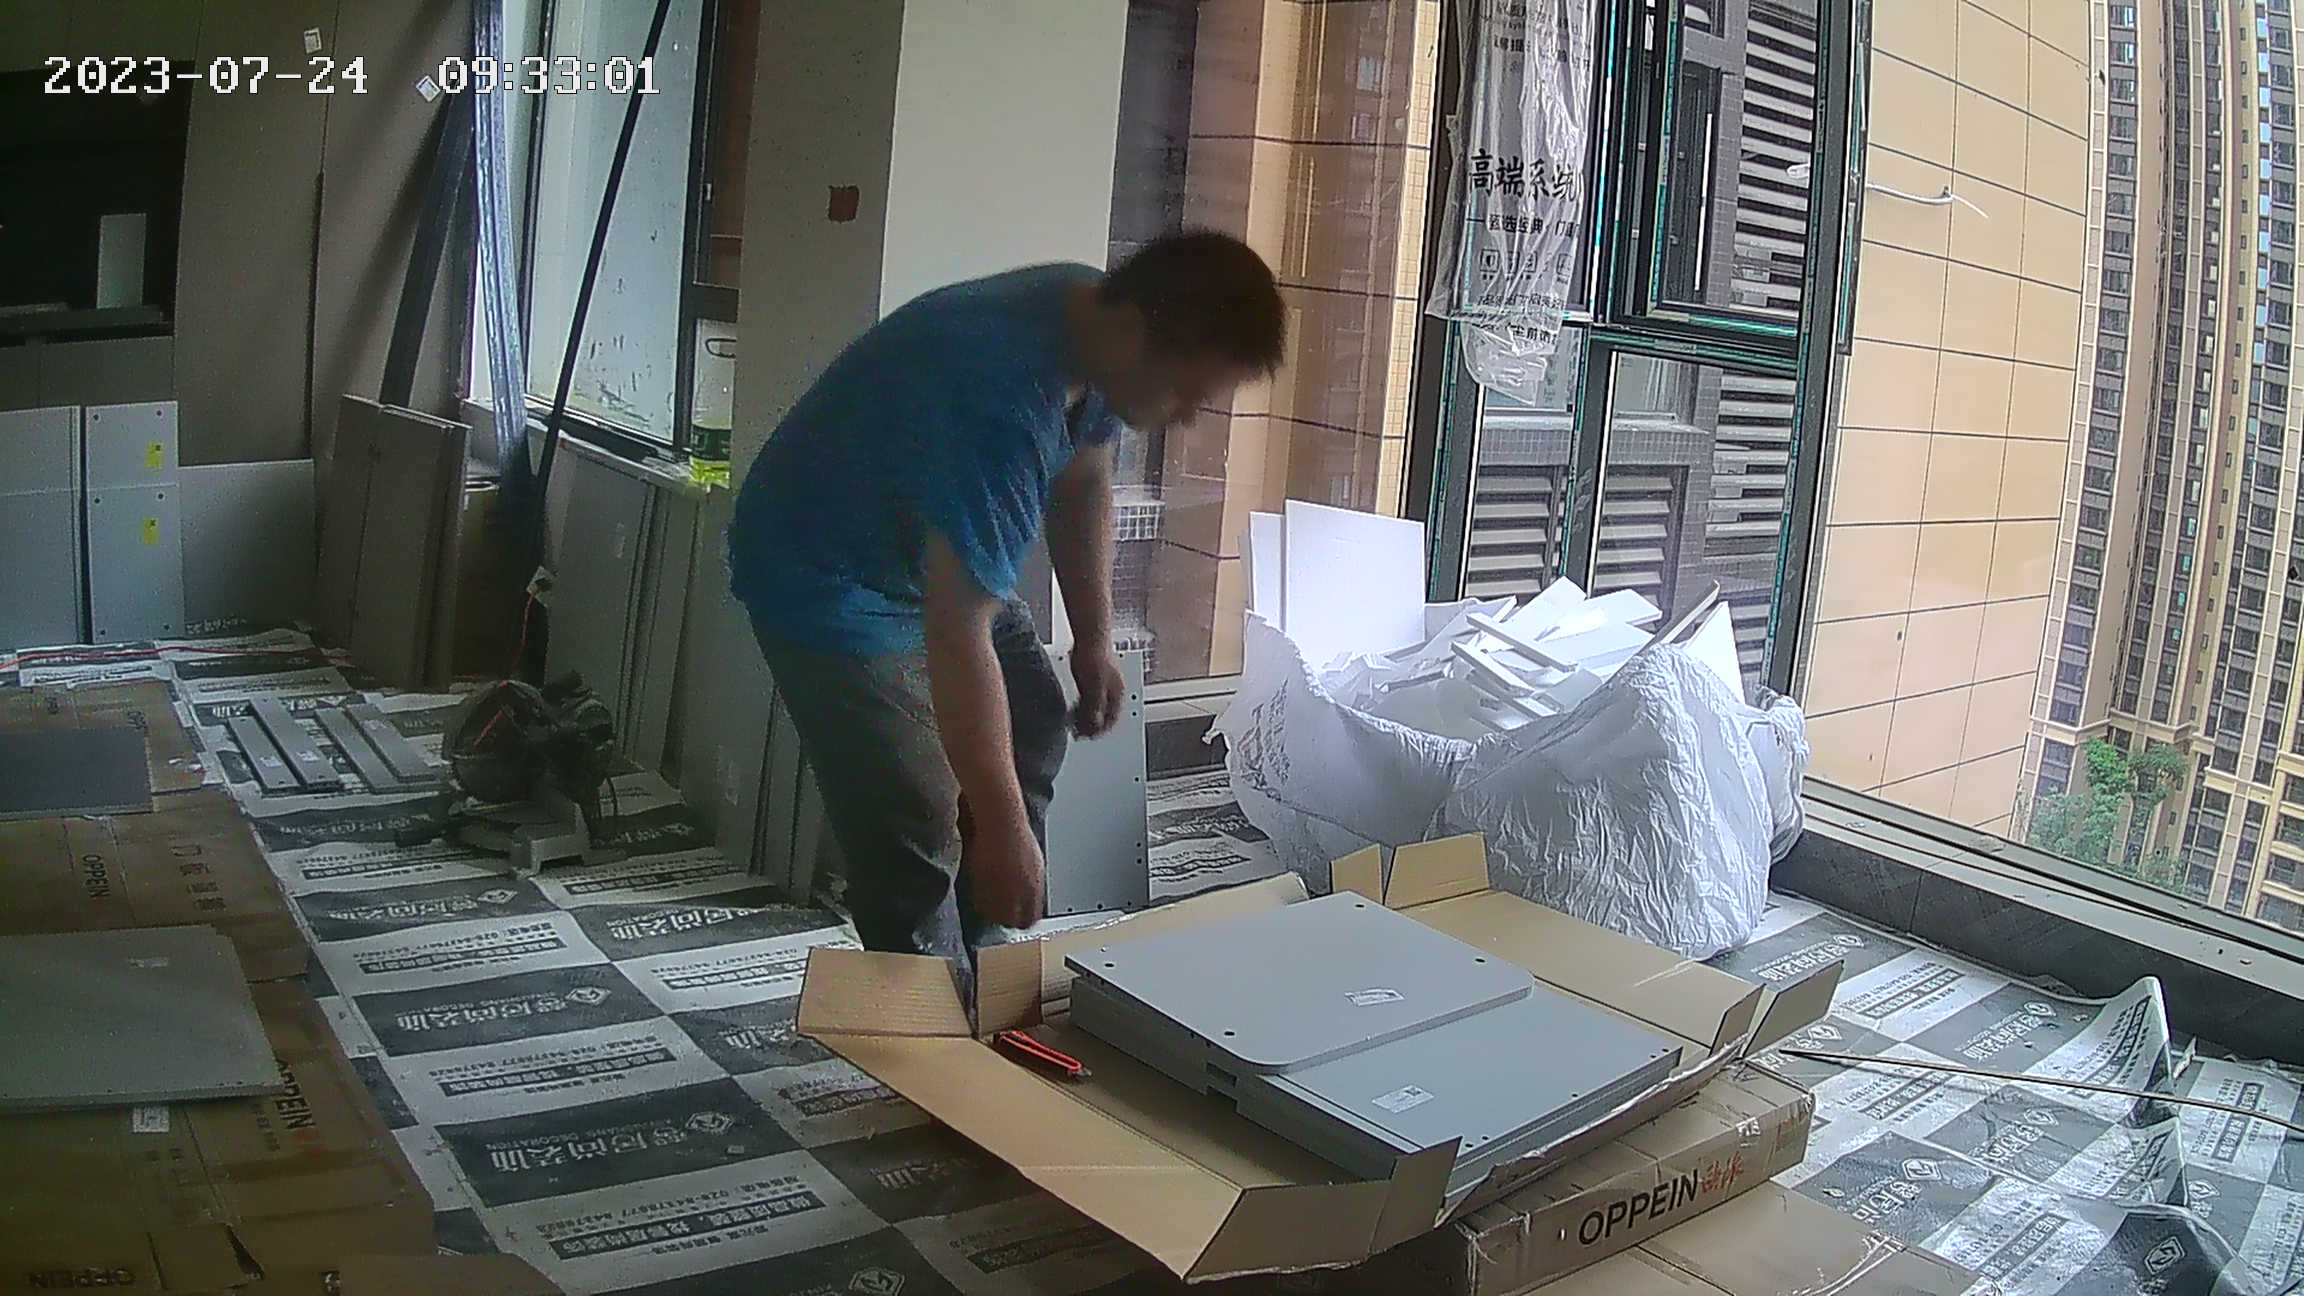people: (723, 229, 1278, 937)
window: (1445, 4, 2304, 944), (475, 1, 748, 399)
